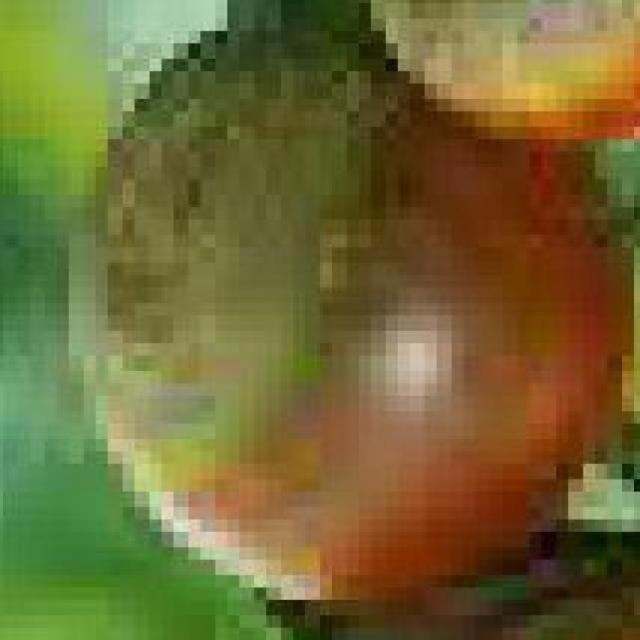Sunscald Fruit: (153, 22, 343, 330)
